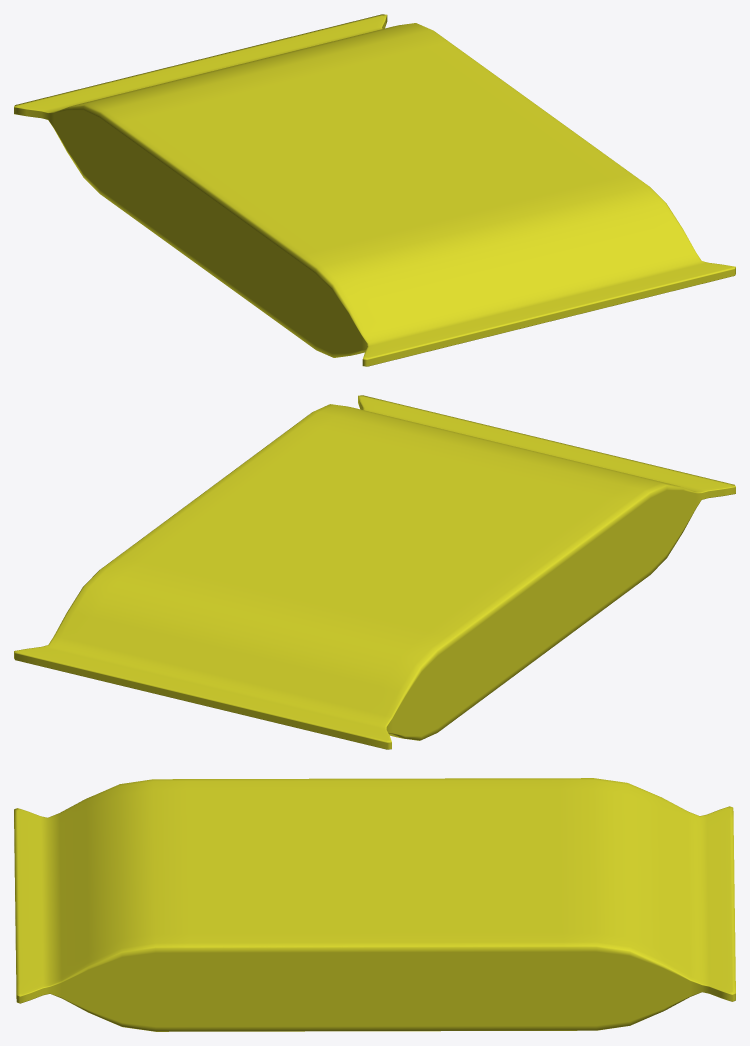
Rendered from seed-pack-sunflower.glb.
3 renders of one model, top to bottom at view 1: azimuth 30°, elevation 25°; view 2: azimuth 150°, elevation 25°; view 3: azimuth 270°, elevation 25°, orthographic. The views are drawn at different scales.
Visible parts, largest first — view 1: Box001; view 2: Box001; view 3: Box001.
Part boxes in pixels (x1,y1,x2,y2): Box001: (14, 14, 735, 366); Box001: (14, 395, 735, 749); Box001: (14, 778, 735, 1031).
Bounding box in the file's own units: 0.1425 × 0.0302 × 0.2286.
